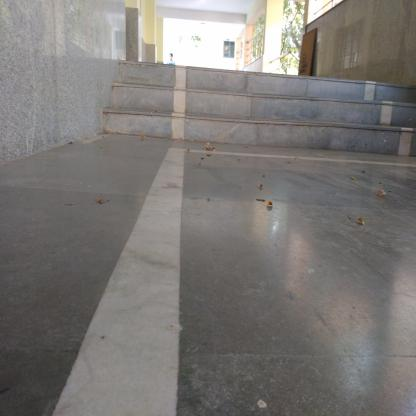stairs: (139, 74, 395, 147)
